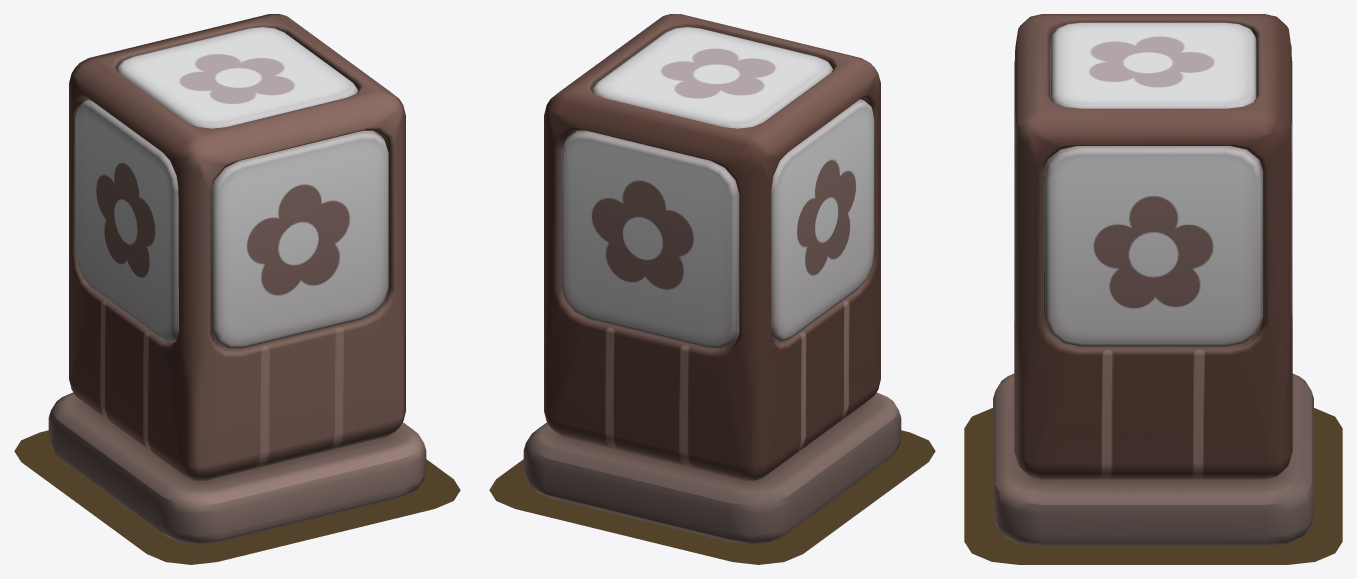
Rendered from JpLight01.fbx.
The picture shows the model from 3 angles, left to right: view 1: azimuth 30°, elevation 25°; view 2: azimuth 150°, elevation 25°; view 3: azimuth 270°, elevation 25°; orthographic projection. The views are drawn at different scales.
Parts seen in each view (by area): view 1: polySurface2, polySurface1; view 2: polySurface2, polySurface1; view 3: polySurface2, polySurface1.
Part boxes in pixels (x1,y1,x2,y2): polySurface2: (48, 14, 426, 544); polySurface1: (14, 430, 460, 564); polySurface2: (523, 14, 901, 544); polySurface1: (489, 430, 935, 564); polySurface2: (993, 14, 1313, 546); polySurface1: (964, 408, 1342, 564).
Size of the model in its own units: 118 by 145 by 118.
